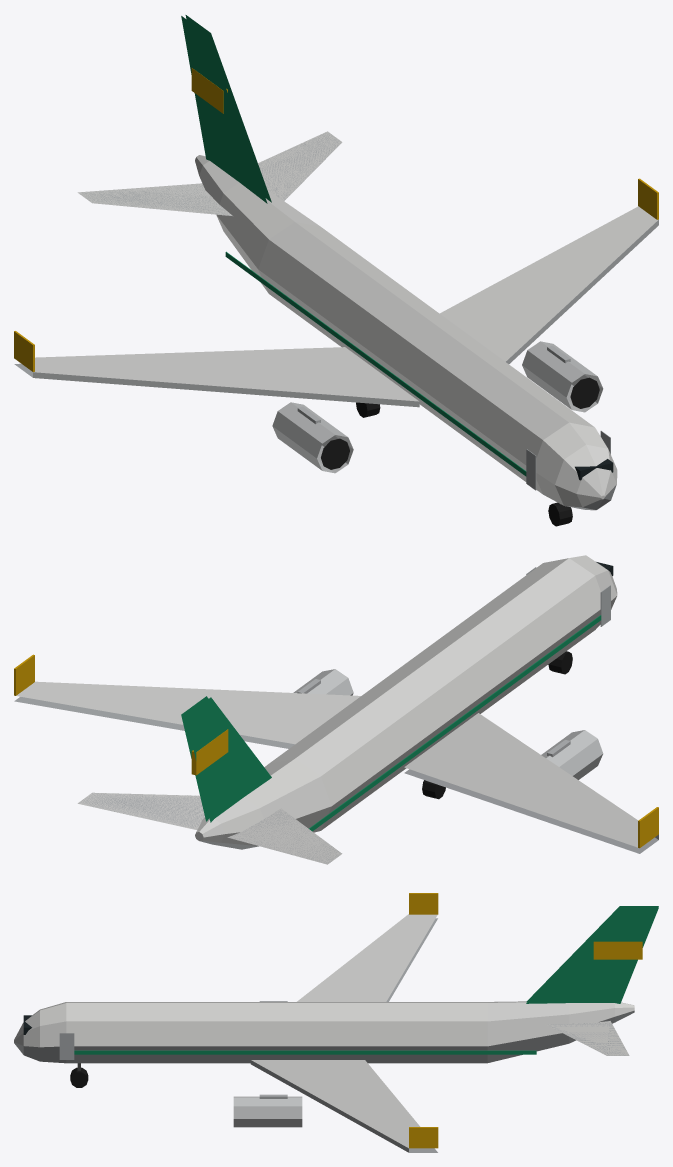
Rendered from ns_jet_lod1.glb.
3 renders of one model, top to bottom at view 1: azimuth 30°, elevation 25°; view 2: azimuth 150°, elevation 25°; view 3: azimuth 270°, elevation 25°, orthographic. The views are drawn at different scales.
Parts seen in each view (by area): view 1: ns_jet_lod1; view 2: ns_jet_lod1; view 3: ns_jet_lod1.
Boxes of the visible parts, x1,y1,x2,y2 form: ns_jet_lod1: (14, 15, 658, 526); ns_jet_lod1: (14, 555, 658, 864); ns_jet_lod1: (14, 893, 658, 1152).
Size of the model in its own units: 34 by 12.07 by 39.5.
